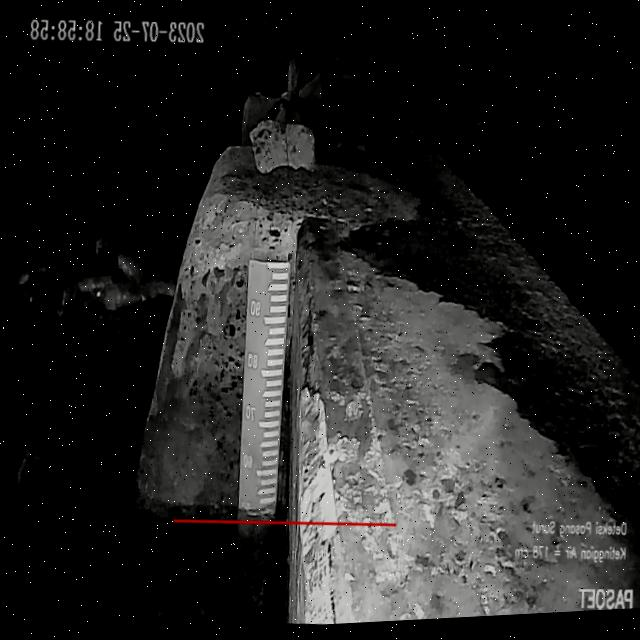water-meter: (214, 246, 305, 545)
